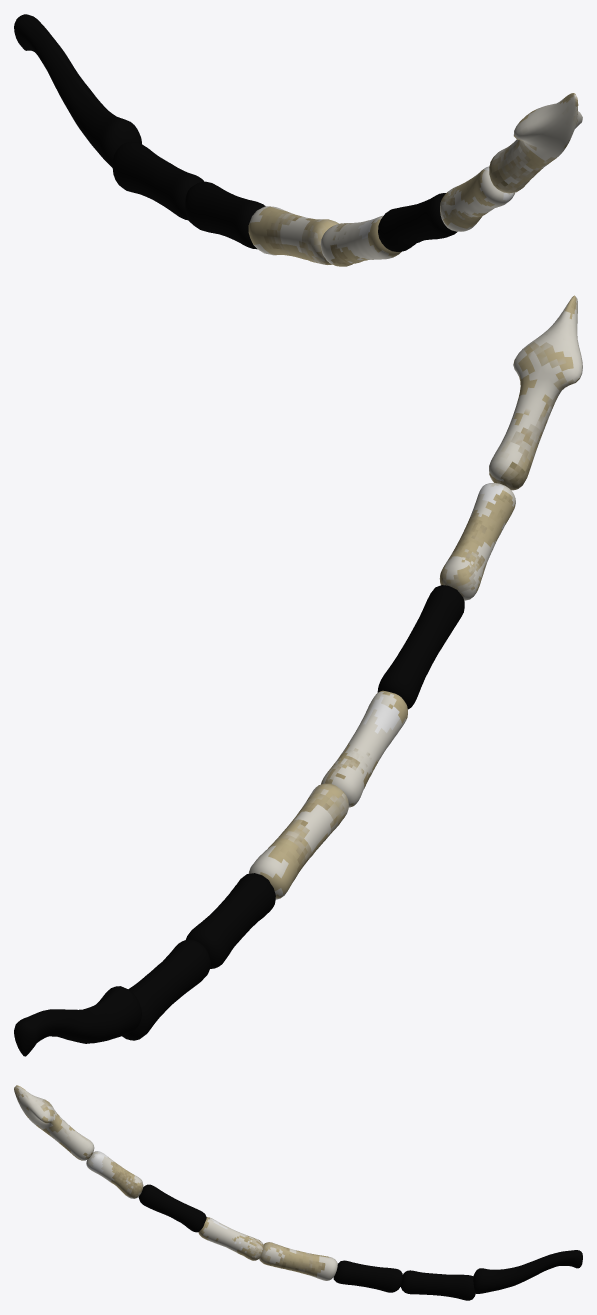
The model's file is Sternum.fbx.
3 renders of one model, top to bottom at view 1: azimuth 30°, elevation 25°; view 2: azimuth 150°, elevation 25°; view 3: azimuth 270°, elevation 25°, orthographic. The views are drawn at different scales.
Visible parts, largest first — view 1: Sternum; view 2: Sternum; view 3: Sternum.
Boxes of the visible parts, x1,y1,x2,y2 form: Sternum: [14, 14, 582, 266]; Sternum: [14, 295, 582, 1056]; Sternum: [14, 1085, 582, 1300].
Size of the model in its own units: 2.81 by 17.3 by 41.54.
